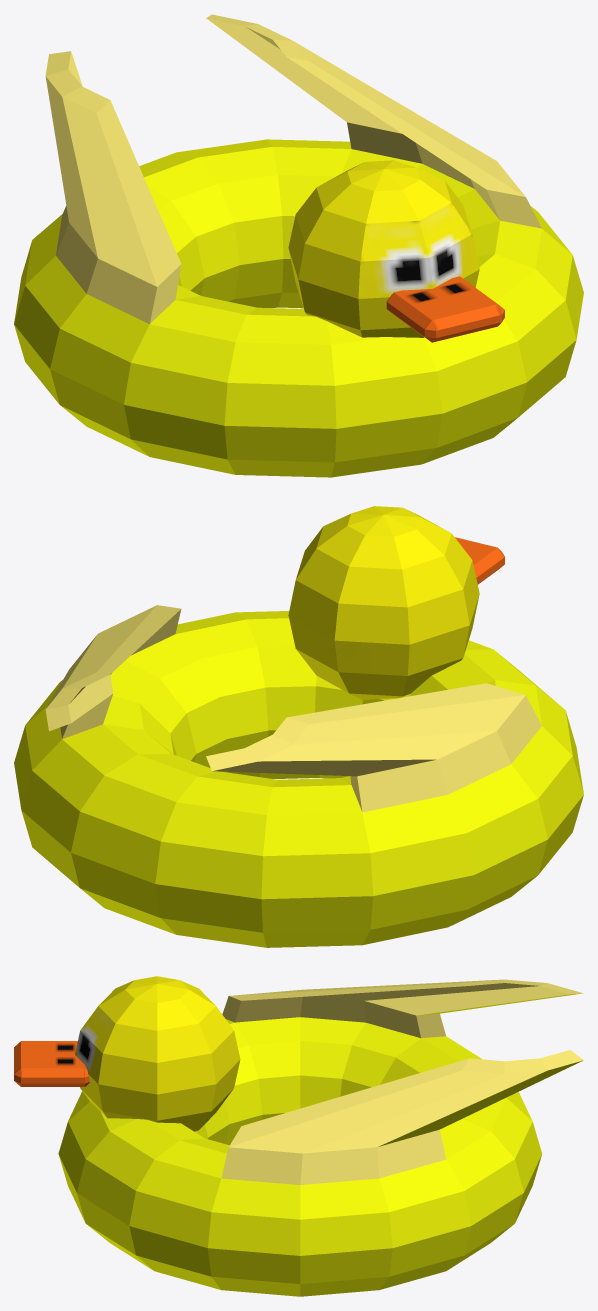
Rendered from paperella.obj.
3 renders of one model, top to bottom at view 1: azimuth 30°, elevation 25°; view 2: azimuth 150°, elevation 25°; view 3: azimuth 270°, elevation 25°, orthographic. The views are drawn at different scales.
Parts seen in each view (by area): view 1: CIAMBELLA; view 2: CIAMBELLA; view 3: CIAMBELLA.
Part boxes in pixels (box(x1,y1,x2,y2)): CIAMBELLA: box(14, 14, 583, 477); CIAMBELLA: box(14, 506, 583, 947); CIAMBELLA: box(14, 976, 583, 1296).
Size of the model in its own units: 17 by 9.09 by 20.03.
